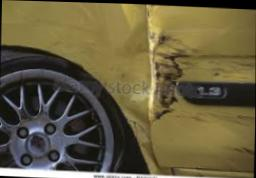Door: (73, 12, 252, 147)
